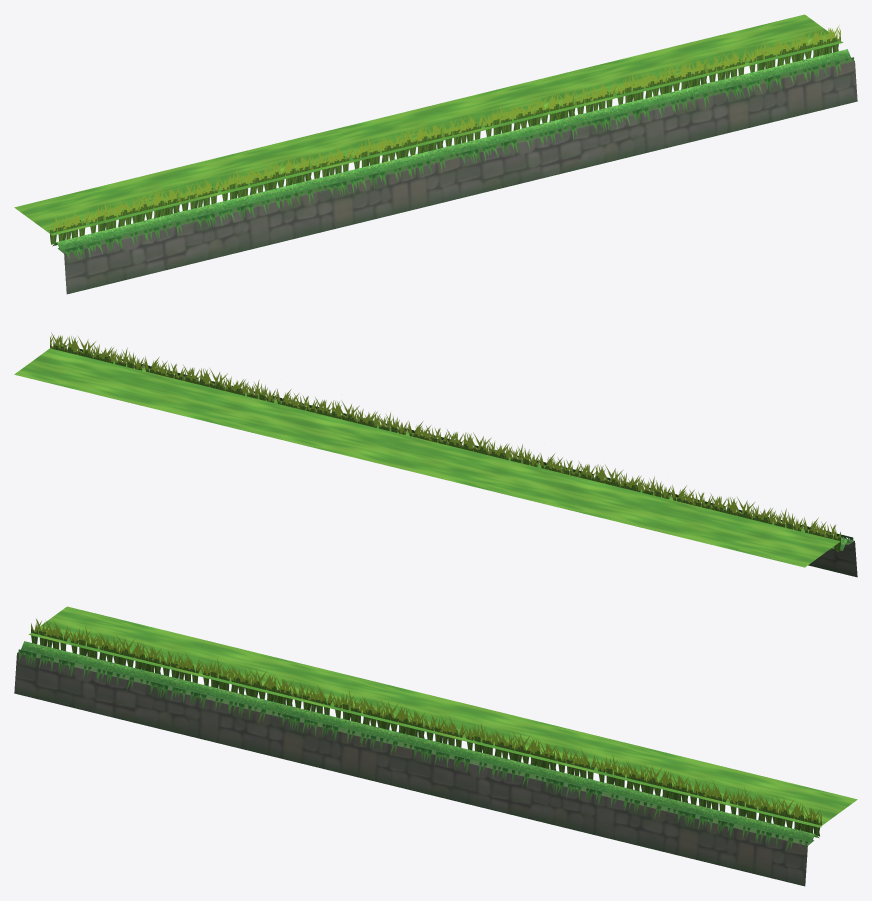
The model's file is terrace_straight_young_far24.glb.
3 renders of one model, top to bottom at view 1: azimuth 30°, elevation 25°; view 2: azimuth 150°, elevation 25°; view 3: azimuth 330°, elevation 25°, orthographic.
Parts seen in each view (by area): view 1: terrace_straight_young_far24_cards, terrace_straight_young_far24_wall, terrace_straight_young_far24_dike; view 2: terrace_straight_young_far24_cards, terrace_straight_young_far24_wall; view 3: terrace_straight_young_far24_cards, terrace_straight_young_far24_wall, terrace_straight_young_far24_dike.
Part boxes in pixels (x1,y1,x2,y2): terrace_straight_young_far24_cards: [14, 14, 853, 261]; terrace_straight_young_far24_wall: [58, 57, 857, 294]; terrace_straight_young_far24_dike: [52, 49, 850, 250]; terrace_straight_young_far24_cards: [14, 332, 853, 567]; terrace_straight_young_far24_wall: [66, 348, 857, 577]; terrace_straight_young_far24_cards: [18, 606, 857, 851]; terrace_straight_young_far24_wall: [14, 649, 813, 886]; terrace_straight_young_far24_dike: [21, 641, 819, 842].
Size of the model in its own units: 24 by 2.13 by 2.79.
3 materials, 3 textured.
